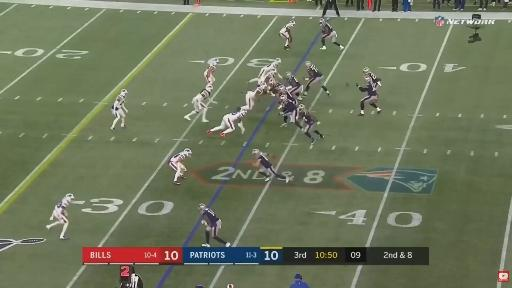Helmet: (184, 148, 191, 156), (198, 204, 205, 212), (66, 194, 74, 201), (239, 108, 247, 115), (278, 85, 287, 91), (206, 85, 213, 92), (298, 104, 305, 111), (269, 78, 275, 86), (261, 83, 267, 90), (281, 94, 287, 101), (363, 67, 369, 73), (252, 149, 259, 154), (121, 90, 127, 95), (305, 62, 311, 67), (213, 59, 219, 64), (290, 21, 296, 26), (319, 19, 324, 25), (276, 58, 281, 64), (271, 69, 277, 74), (364, 77, 370, 82), (286, 72, 291, 77)
Jersey: (203, 208, 219, 226), (255, 153, 271, 168), (55, 198, 69, 214), (359, 84, 377, 96), (300, 110, 315, 124), (259, 64, 273, 78), (112, 95, 125, 110), (194, 89, 210, 101), (308, 65, 322, 78), (168, 153, 185, 163), (283, 101, 297, 113), (368, 72, 381, 84), (287, 76, 301, 87), (322, 22, 333, 35), (229, 112, 243, 122), (205, 64, 216, 76), (280, 23, 289, 30)
Player: (199, 204, 230, 247), (250, 149, 289, 182), (46, 194, 74, 239), (207, 108, 246, 138), (184, 84, 213, 122), (356, 76, 381, 115), (298, 105, 323, 144), (303, 62, 330, 97), (168, 148, 192, 185), (248, 59, 281, 85), (280, 92, 302, 129), (320, 19, 343, 49), (241, 84, 266, 110), (111, 90, 127, 130), (286, 72, 303, 100), (280, 21, 295, 50), (258, 70, 276, 93), (204, 59, 218, 84), (363, 68, 381, 86), (270, 79, 282, 95)
